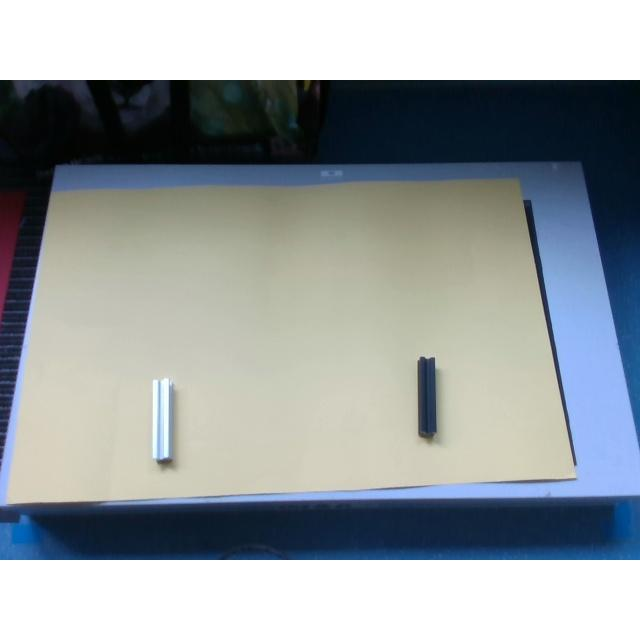F20_20_B: (418, 357, 438, 439)
F20_20_G: (150, 377, 173, 461)
